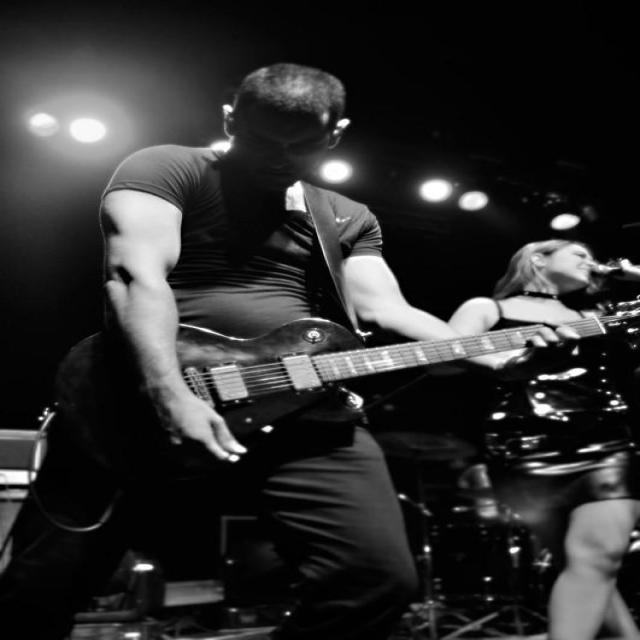guitar: (178, 319, 539, 438)
